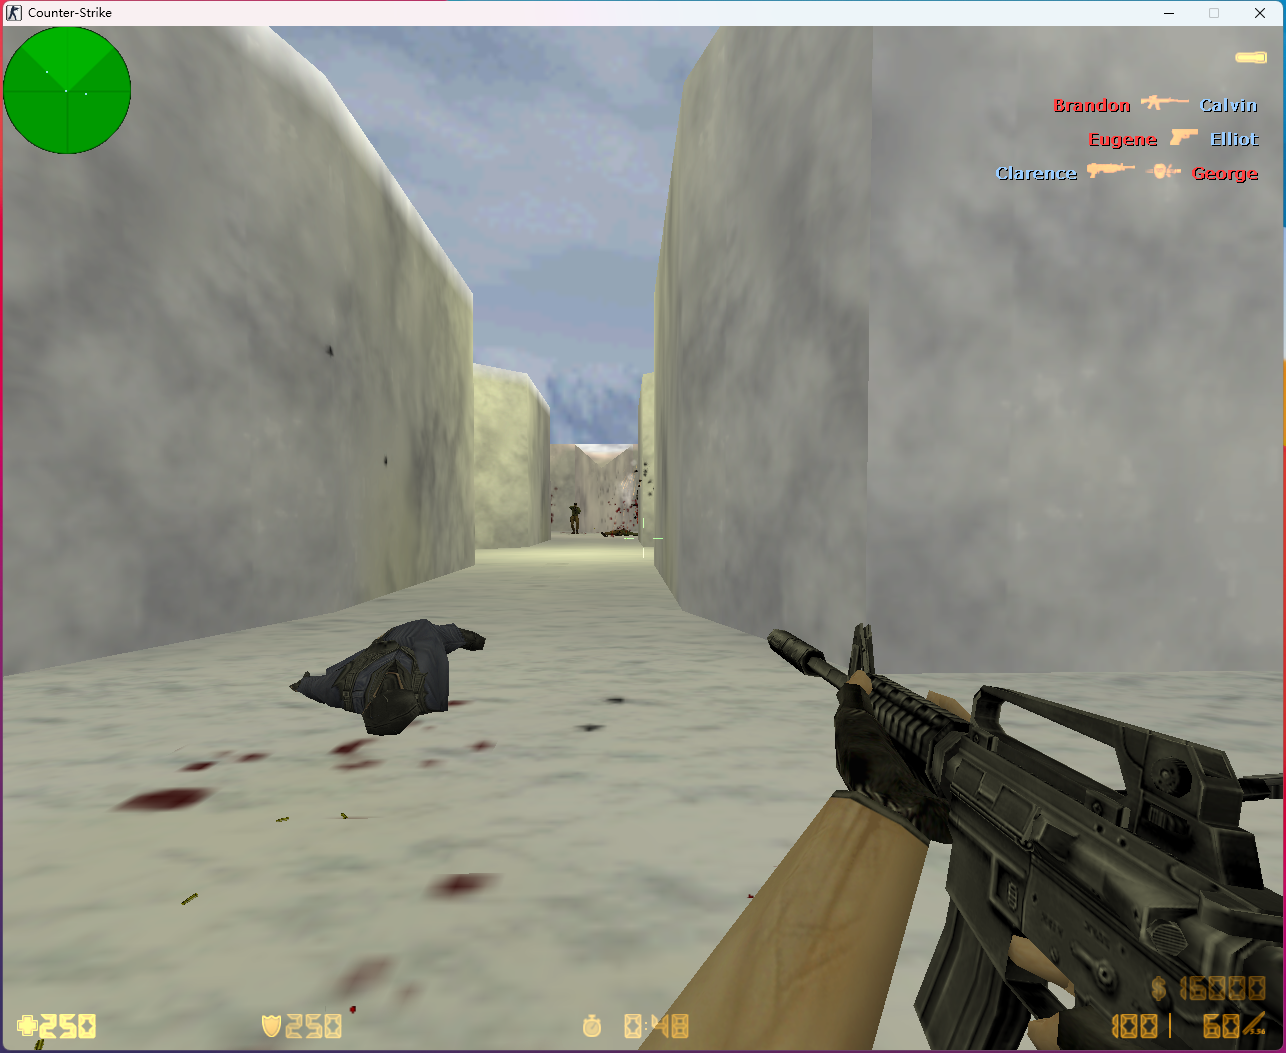T: (567, 498, 581, 537)
dead: (287, 606, 499, 735), (597, 526, 639, 540)
